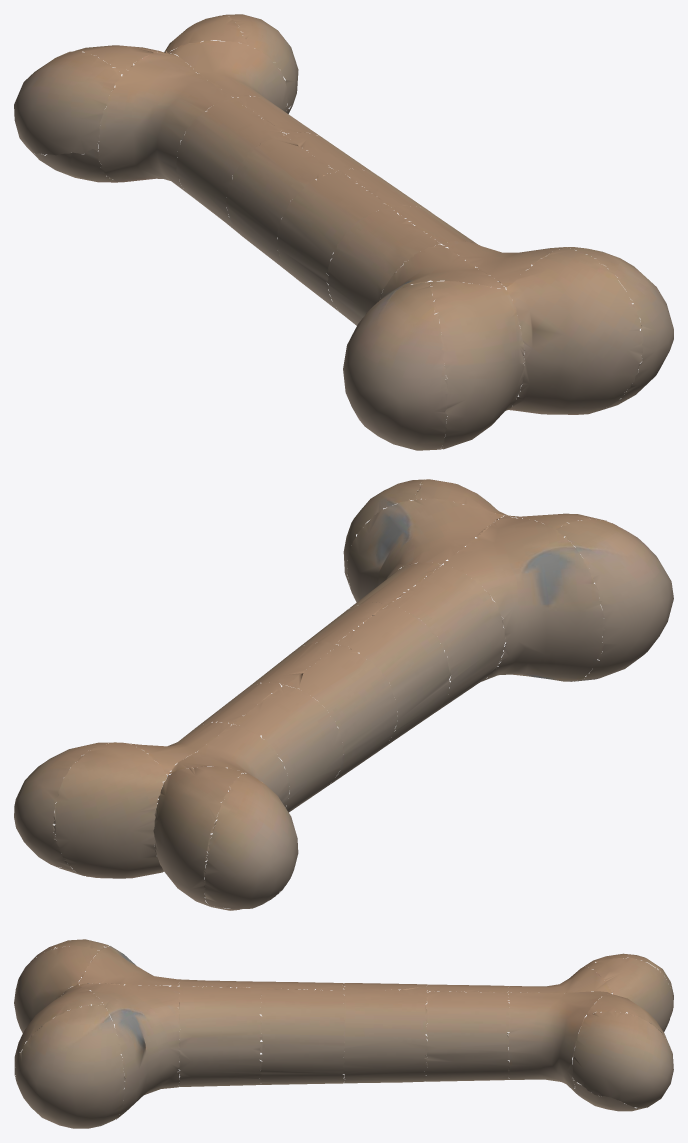
The model's file is dino.glb.
The picture shows the model from 3 angles, top to bottom: view 1: azimuth 30°, elevation 25°; view 2: azimuth 150°, elevation 25°; view 3: azimuth 270°, elevation 25°; orthographic projection. The views are drawn at different scales.
Visible parts, largest first — view 1: tripo_node_88f789ca-59d3-4290-81dc-65dc5b083fe5; view 2: tripo_node_88f789ca-59d3-4290-81dc-65dc5b083fe5; view 3: tripo_node_88f789ca-59d3-4290-81dc-65dc5b083fe5.
Part boxes in pixels (x1=…): tripo_node_88f789ca-59d3-4290-81dc-65dc5b083fe5: x1=14, y1=14, x2=673, y2=450; tripo_node_88f789ca-59d3-4290-81dc-65dc5b083fe5: x1=14, y1=479, x2=673, y2=910; tripo_node_88f789ca-59d3-4290-81dc-65dc5b083fe5: x1=14, y1=939, x2=673, y2=1128.
Bounding box in the file's own units: 0.4277 × 0.2025 × 1.
Materials: 1 (1 with a texture image).
